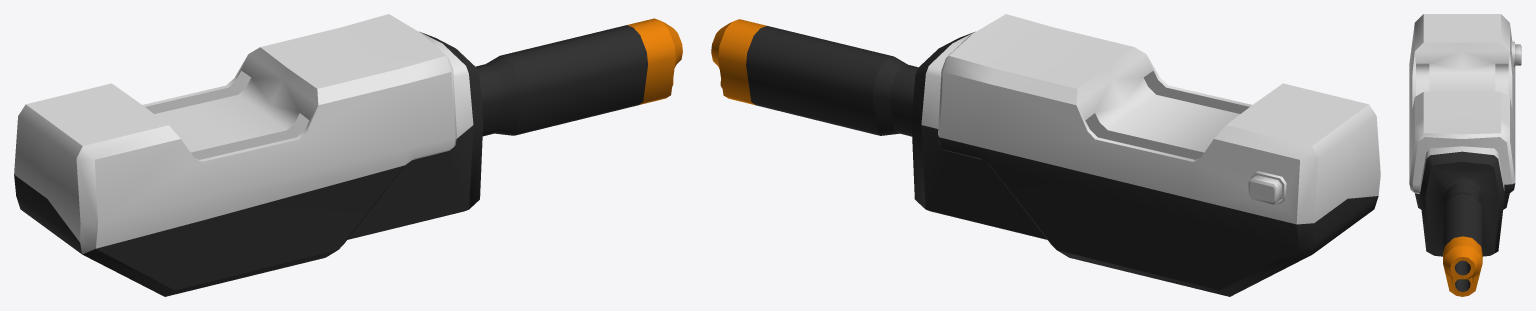
File: blaster_gun.dae
3 renders of one model, left to right at view 1: azimuth 30°, elevation 25°; view 2: azimuth 150°, elevation 25°; view 3: azimuth 270°, elevation 25°, orthographic. The views are drawn at different scales.
Visible parts, largest first — view 1: blaster_gun; view 2: blaster_gun; view 3: blaster_gun.
Part boxes in pixels (x1,y1,x2,y2): blaster_gun: (14, 14, 682, 296); blaster_gun: (711, 14, 1380, 296); blaster_gun: (1409, 14, 1521, 296).
Size of the model in its own units: 0.2485 by 0.0568 by 0.0665.
